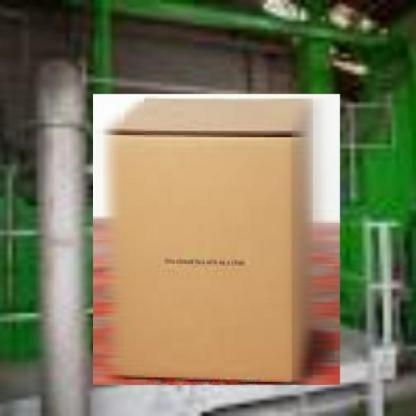-: (89, 90, 345, 390)
